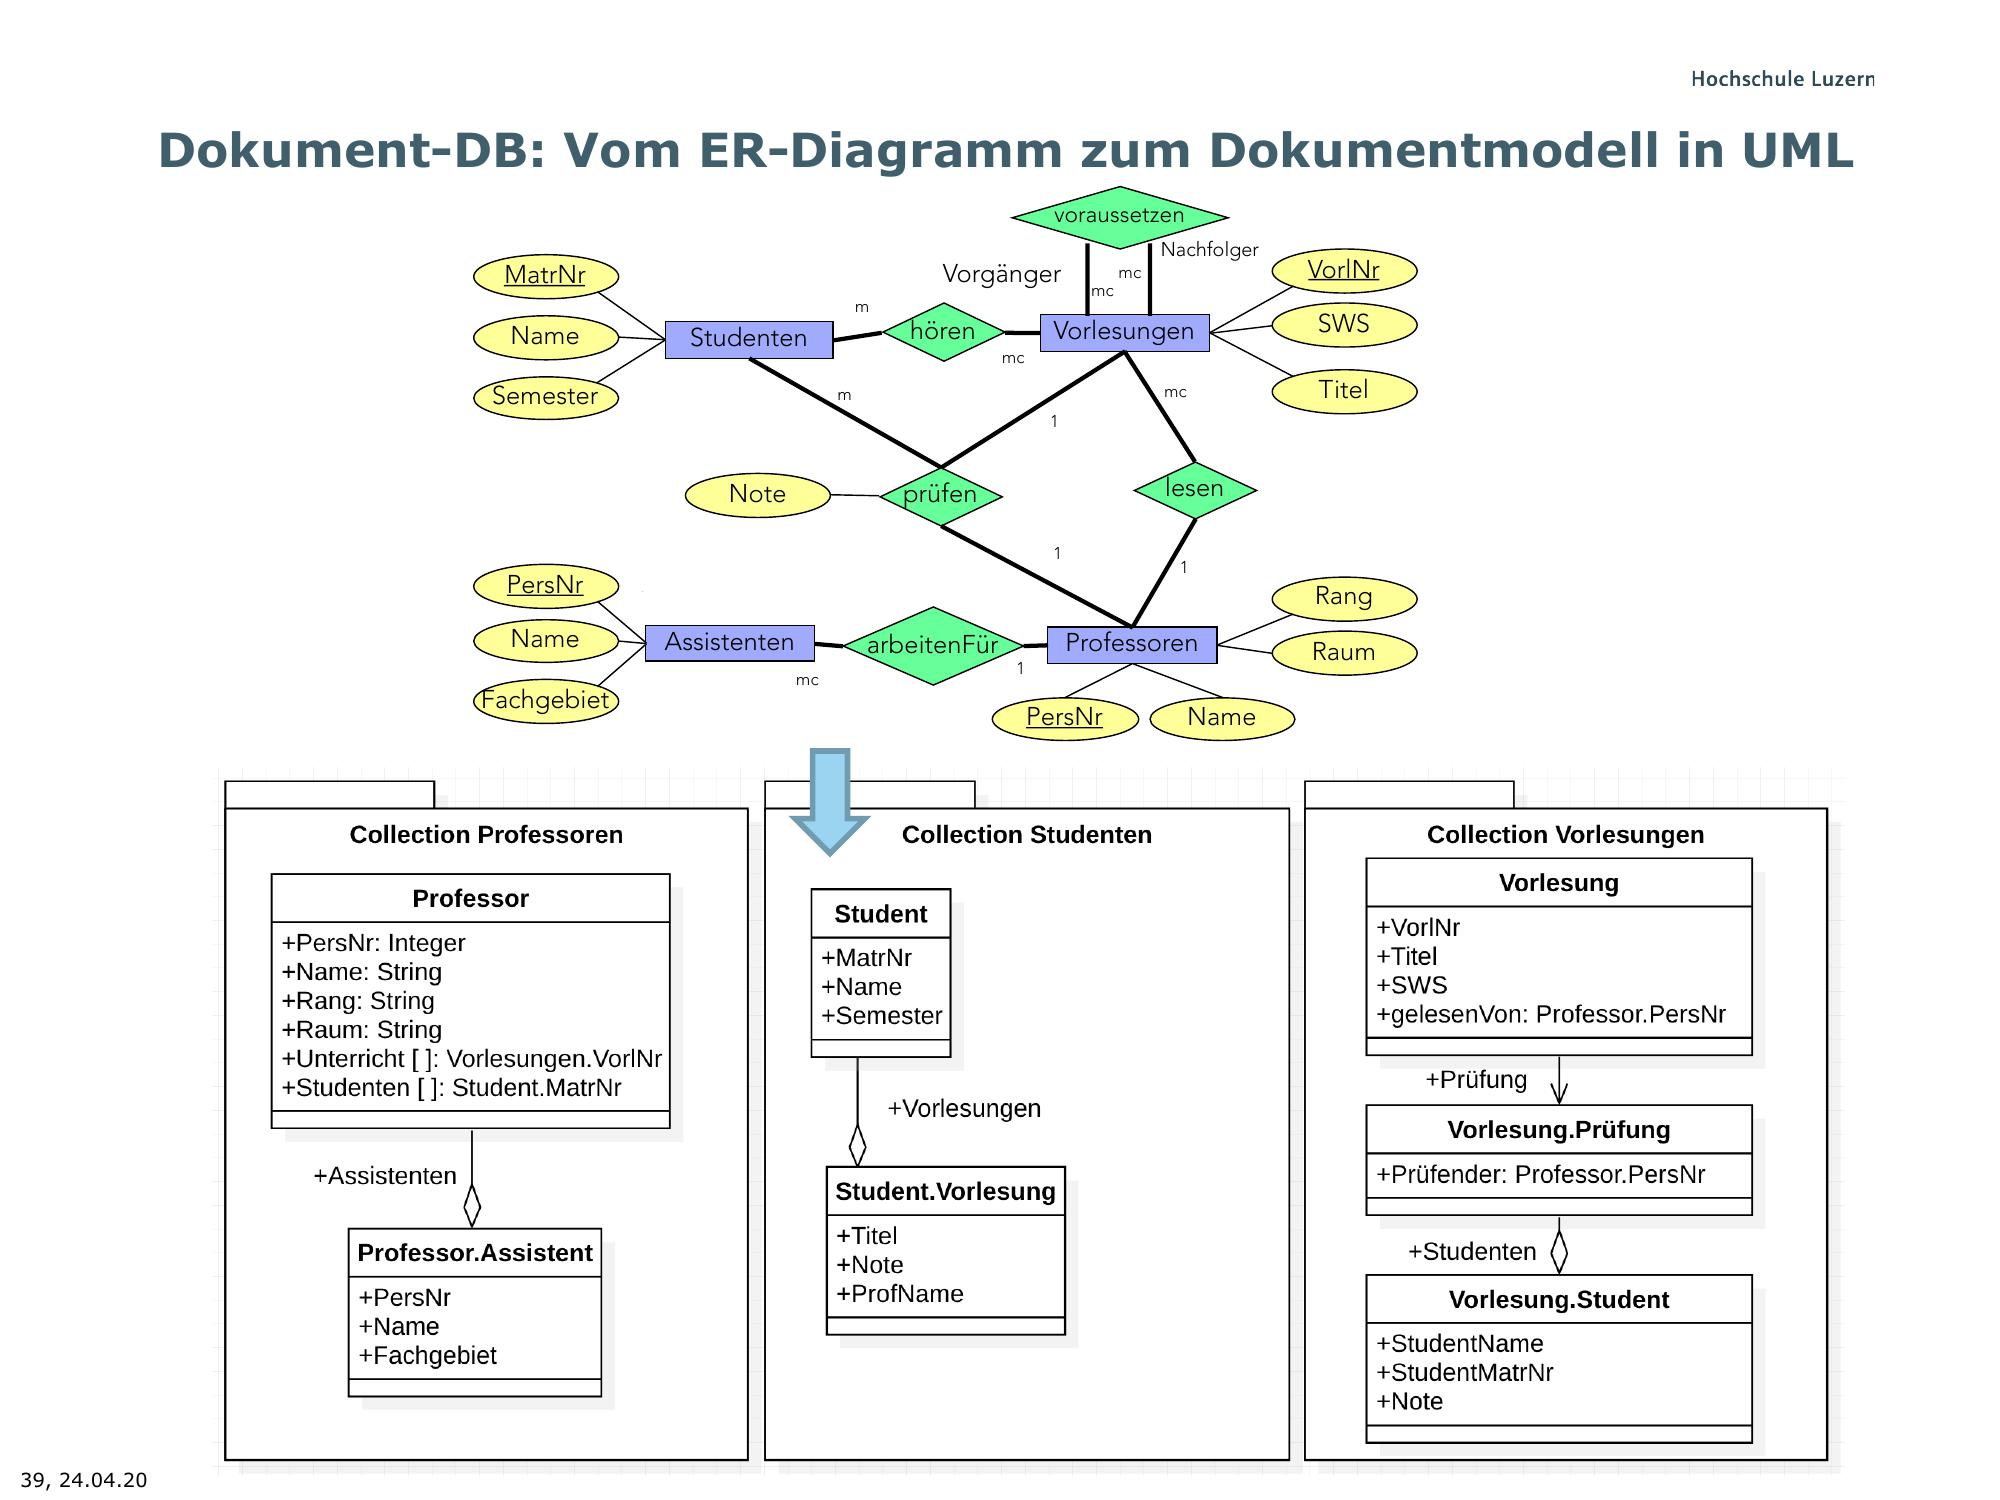Title: (143, 110, 1868, 180)
